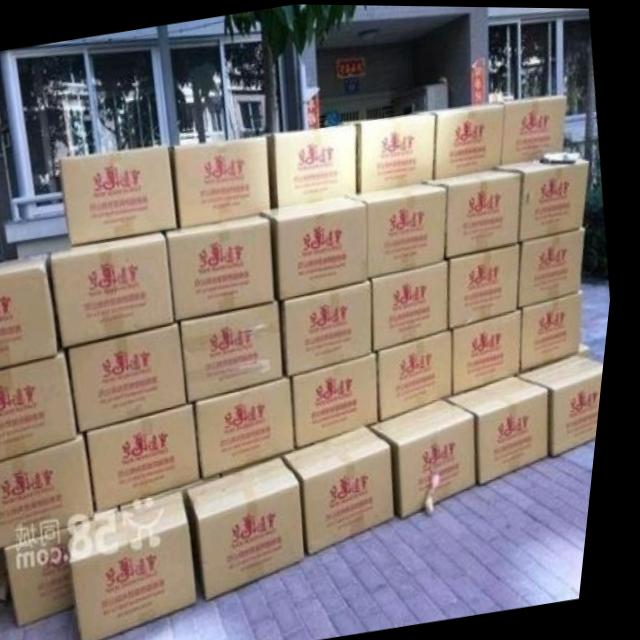box: (81, 484, 210, 640), (195, 454, 318, 600), (289, 424, 404, 553), (56, 229, 181, 347), (73, 320, 196, 435), (376, 395, 486, 517), (93, 401, 211, 514), (0, 433, 105, 552), (61, 143, 182, 245), (168, 215, 281, 321), (451, 371, 557, 483), (265, 193, 373, 299), (187, 301, 292, 402), (203, 374, 304, 478), (0, 348, 88, 464), (349, 180, 451, 278), (172, 132, 276, 228), (285, 277, 381, 375), (427, 166, 525, 257), (526, 352, 611, 454), (502, 147, 593, 239), (299, 353, 389, 446), (13, 520, 88, 629), (268, 121, 363, 206), (0, 254, 69, 370), (375, 256, 454, 351), (415, 99, 505, 177), (383, 327, 459, 419), (354, 110, 439, 190), (455, 307, 527, 392), (454, 241, 524, 328), (527, 287, 597, 371), (524, 224, 590, 304), (503, 92, 567, 164), (0, 548, 23, 611)
